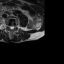CCS_normal: (11, 24, 12, 31)
LFS_normal: (14, 23, 17, 29)
LLS_normal: (12, 24, 14, 30)
RFS_normal: (7, 23, 9, 28)
RLS_normal: (9, 24, 11, 30)
